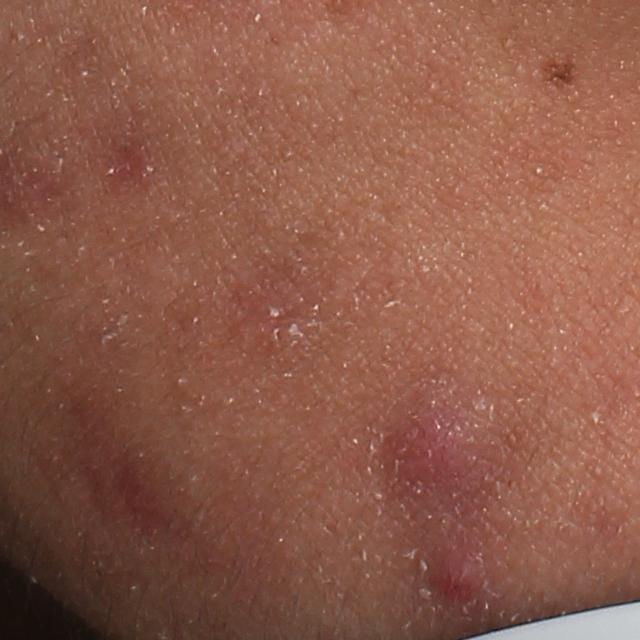nevus: (541, 61, 576, 92)
papule: (388, 388, 492, 505), (413, 540, 485, 614)
